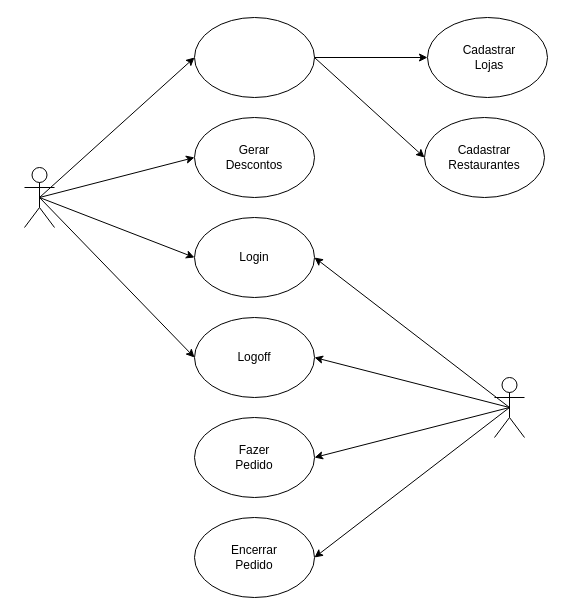
Image size: 565x615. Some labels were removed from this diagram. Each missing label, with the centre of its shape:
"cadastrar produtos" goes at (x=254, y=57).
"cliente" goes at (x=509, y=407).
"Dono do negocio" goes at (x=39, y=197).
